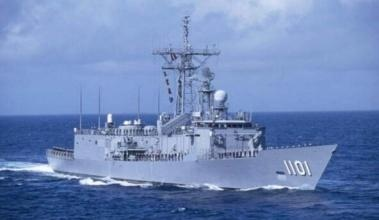warship: (44, 46, 338, 191)
